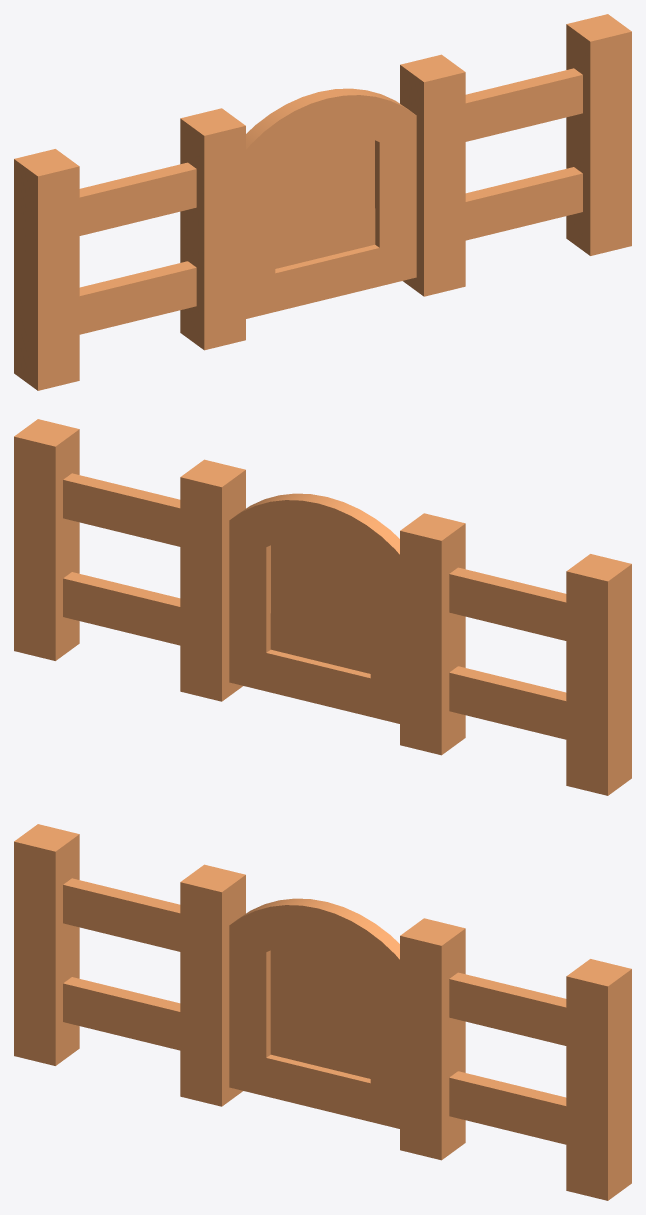
File: fence_gate.fbx
3 renders of one model, top to bottom at view 1: azimuth 30°, elevation 25°; view 2: azimuth 150°, elevation 25°; view 3: azimuth 330°, elevation 25°, orthographic.
Visible parts, largest first — view 1: fence_gate, gate; view 2: fence_gate, gate; view 3: fence_gate, gate.
Part boxes in pixels (x1=…): fence_gate: x1=14, y1=14, x2=631, y2=390; gate: x1=246, y1=88, x2=416, y2=318; fence_gate: x1=14, y1=419, x2=631, y2=795; gate: x1=229, y1=493, x2=399, y2=723; fence_gate: x1=14, y1=824, x2=631, y2=1200; gate: x1=229, y1=898, x2=399, y2=1128.
Size of the model in its own units: 10 by 3.45 by 0.7.
